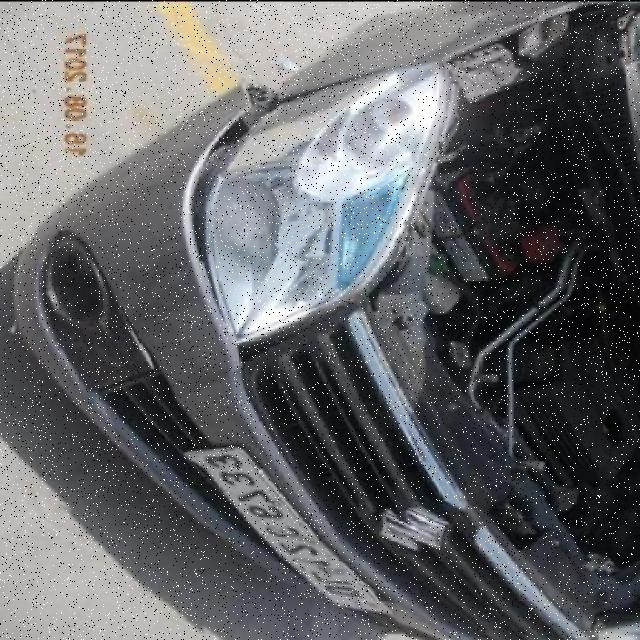damage: (190, 78, 283, 286)
